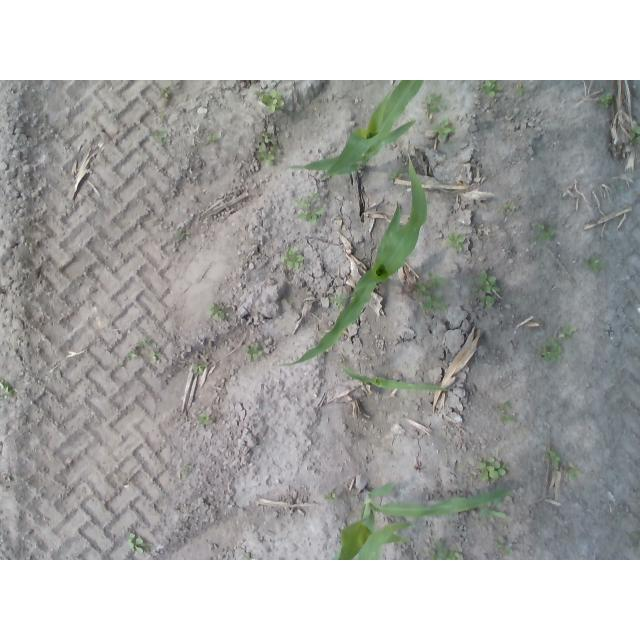Maize: (278, 155, 428, 371), (333, 484, 508, 561), (283, 80, 425, 172), (343, 368, 447, 392)
Weeds: (412, 274, 447, 310), (475, 270, 501, 310), (294, 198, 323, 223), (478, 457, 506, 482), (258, 133, 274, 165), (433, 119, 455, 142), (424, 93, 443, 115), (480, 506, 504, 523), (283, 251, 304, 270), (263, 89, 281, 111), (543, 340, 562, 360), (480, 80, 502, 97), (500, 401, 515, 423), (128, 533, 144, 553), (446, 235, 467, 250), (430, 541, 447, 559), (243, 345, 261, 360), (210, 303, 225, 319), (538, 225, 554, 240), (190, 362, 206, 375), (151, 343, 161, 363), (601, 93, 613, 109), (0, 380, 12, 396), (561, 324, 576, 336), (549, 452, 559, 469), (449, 549, 464, 560), (630, 125, 640, 140), (325, 491, 336, 504), (583, 260, 598, 269), (138, 338, 153, 346), (162, 86, 171, 99), (566, 466, 578, 475), (198, 416, 209, 425), (504, 204, 515, 212), (178, 231, 186, 241), (207, 135, 218, 142), (517, 84, 523, 96), (131, 348, 139, 357), (159, 135, 169, 142)
